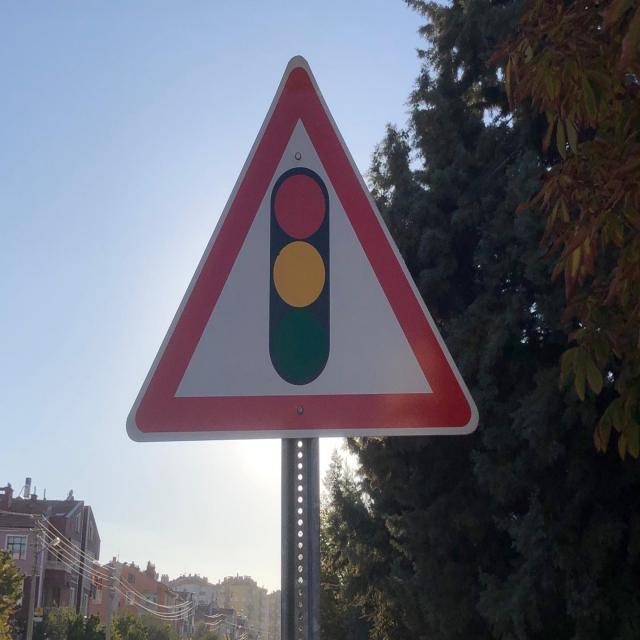light_traffic: (124, 51, 476, 449)
